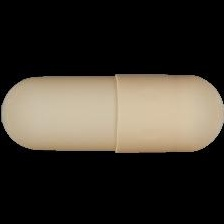58118-0096: (0, 0, 224, 224)
